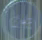bike lane: (0, 3, 40, 39)
